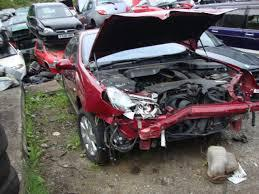Headlight-Damage: (95, 87, 148, 117)
front-bumper-dent: (124, 102, 234, 136)
